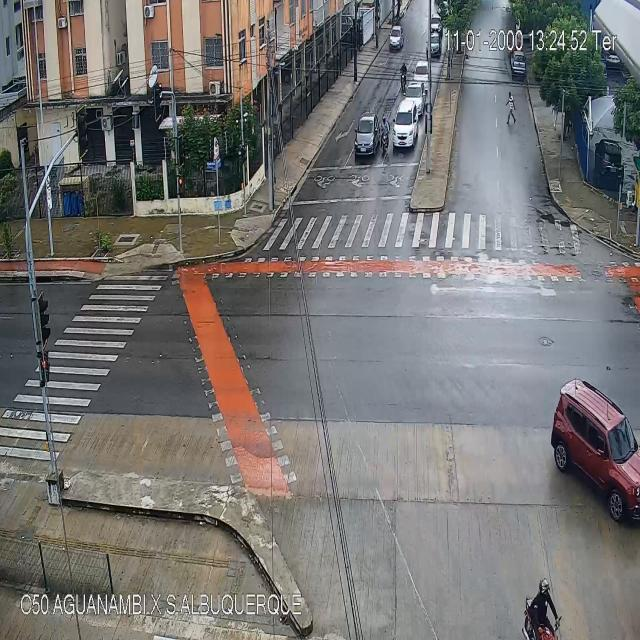Car: (552, 375, 640, 524), (393, 106, 416, 149), (355, 112, 376, 156), (405, 82, 425, 112), (388, 25, 404, 50), (414, 62, 429, 88), (426, 34, 439, 60), (512, 52, 526, 75), (430, 15, 441, 31)
Motorcycle: (518, 557, 578, 640), (379, 118, 388, 156), (399, 62, 406, 94)
